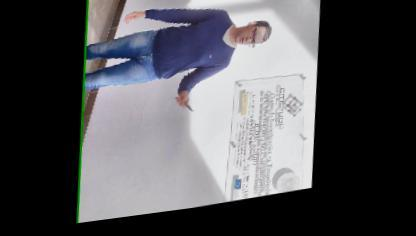knife: (174, 96, 198, 120)
